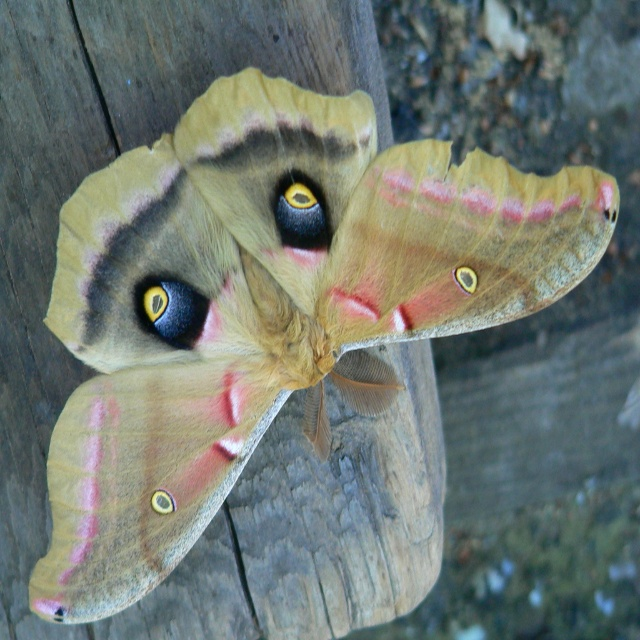Butterfly: (101, 75, 610, 640)
